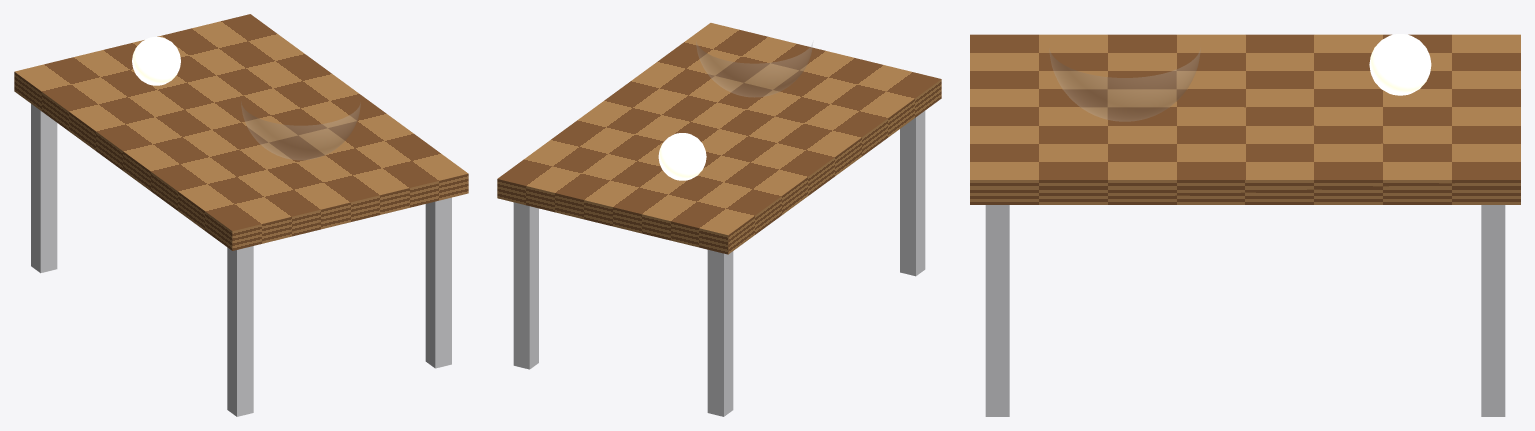
Rendered from table.glb.
The picture shows the model from 3 angles, left to right: view 1: azimuth 30°, elevation 25°; view 2: azimuth 150°, elevation 25°; view 3: azimuth 270°, elevation 25°; orthographic projection. The views are drawn at different scales.
Parts seen in each view (by area): view 1: top, leg (×3), bowl, bulb; view 2: top, leg (×3), bowl, bulb; view 3: top, leg (×2), bowl, bulb.
Boxes of the visible parts, box(x1,y1,x2,y2) form: top: box(14, 14, 468, 250); leg (×3): box(31, 104, 451, 416); bowl: box(241, 104, 360, 159); bulb: box(132, 36, 180, 85); top: box(497, 23, 941, 254); leg (×3): box(513, 111, 925, 416); bowl: box(696, 43, 812, 96); bulb: box(658, 133, 706, 180); top: box(970, 34, 1520, 204); leg (×2): box(985, 205, 1505, 416); bowl: box(1049, 50, 1200, 121); bulb: box(1369, 34, 1431, 95).
Bounding box in the file's own units: 1 × 1 × 1.6.
4 materials, 1 textured.
